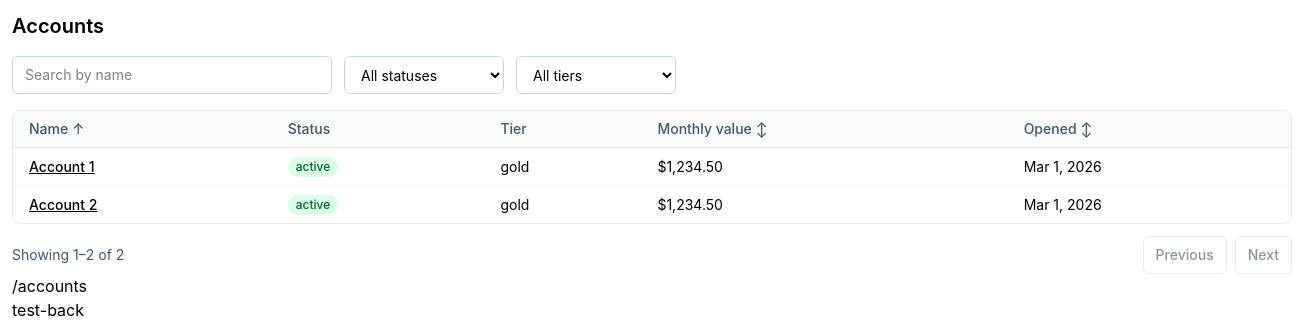
AccountsPage › renders the name as a link to the account and navigates exactly once when it is clicked
This screenshot has width=1304, height=334.
Click the link "Account 1" at (62, 166), box [29, 158, 95, 174]
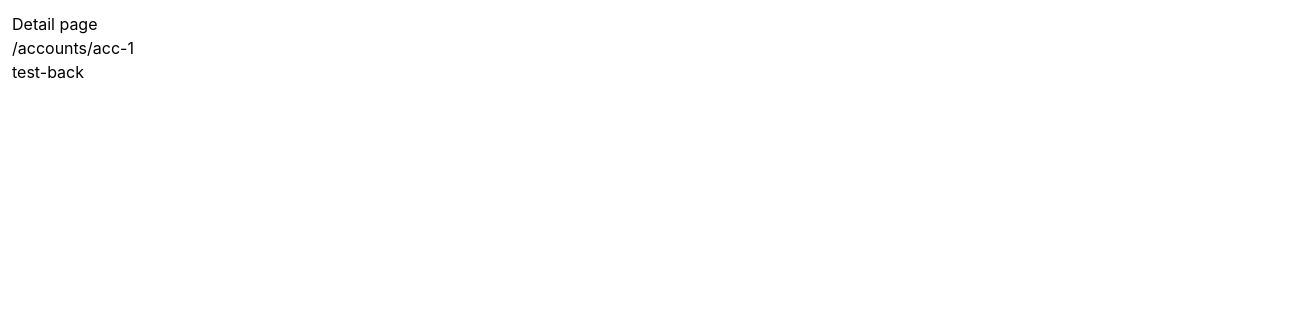
expect the heading "Detail page" is shown: met, box [12, 14, 98, 34]
